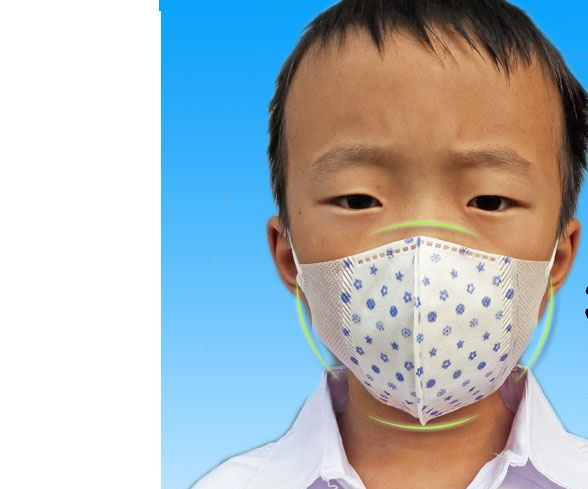face_mask: (289, 48, 564, 407)
